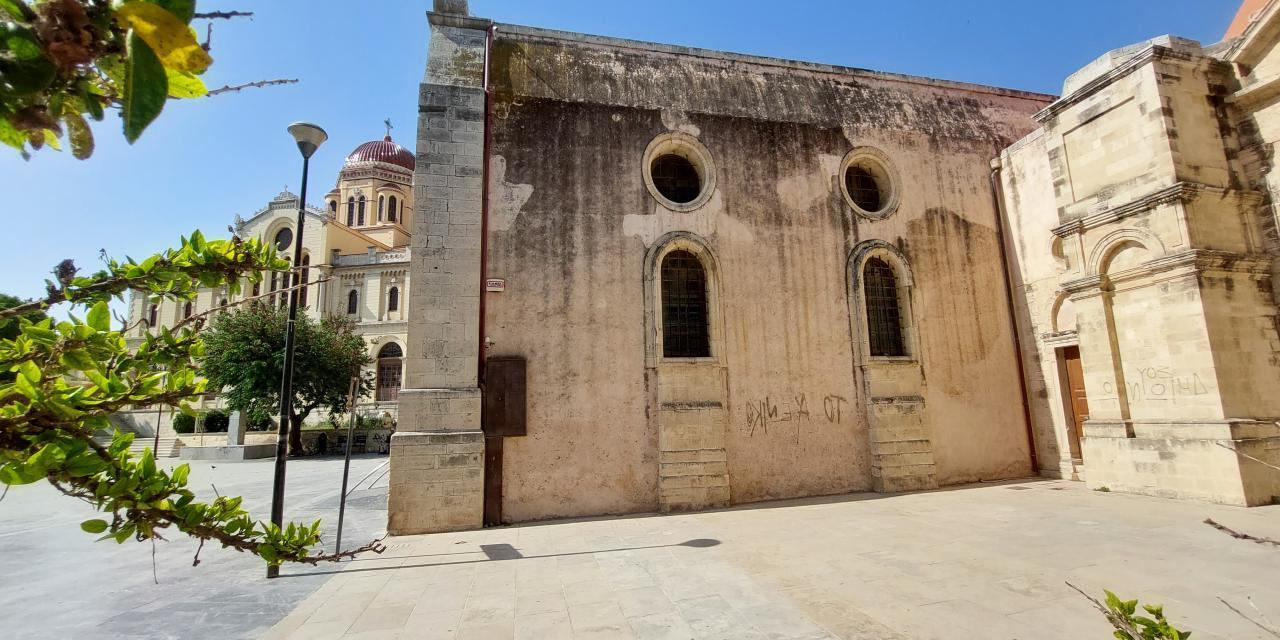Agia Aikaterini: (385, 1, 1280, 539)
